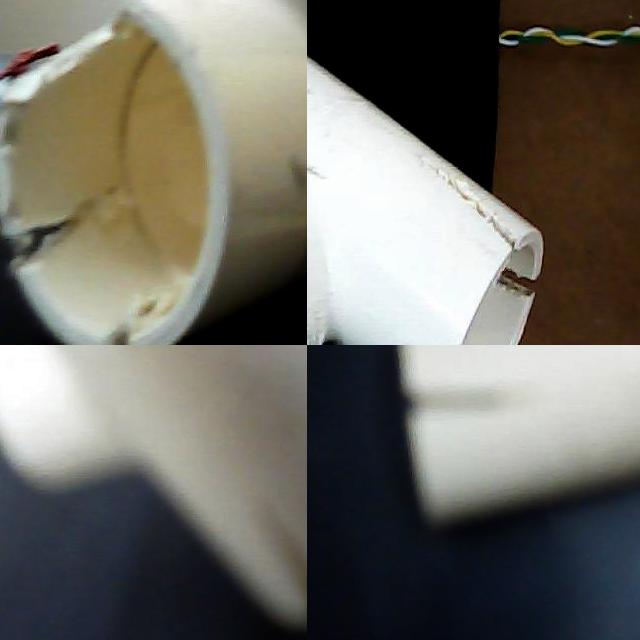Defective: (21, 193, 175, 338), (407, 132, 537, 303), (258, 459, 307, 640), (408, 376, 516, 430), (109, 0, 179, 59), (330, 315, 467, 345), (2, 215, 72, 270), (69, 21, 139, 66)
T Joint: (5, 345, 307, 640), (307, 56, 545, 345), (395, 345, 640, 536)
